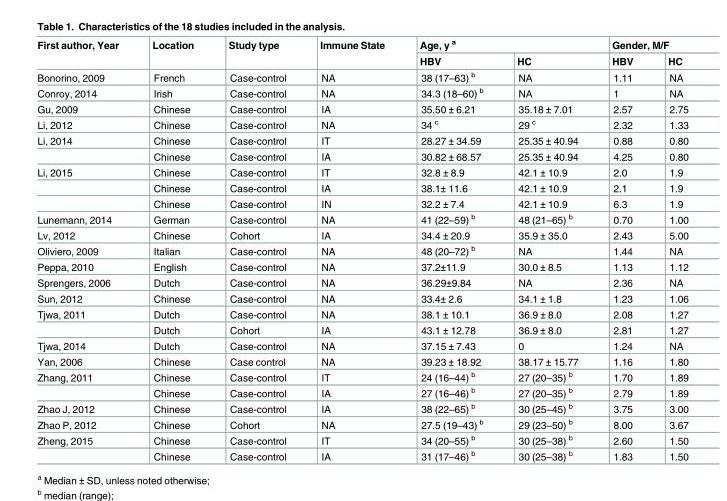table: (36, 36, 687, 461)
table column: (302, 36, 401, 461), (36, 36, 134, 461), (401, 36, 499, 461), (499, 36, 594, 461), (210, 36, 302, 461), (134, 36, 210, 461), (594, 36, 649, 461), (649, 36, 687, 461)
table column header: (36, 36, 687, 68)
table row: (36, 115, 687, 132), (36, 210, 687, 227), (36, 36, 687, 52), (36, 52, 687, 68), (36, 68, 687, 84), (36, 84, 687, 100), (36, 132, 687, 148), (36, 163, 687, 179), (36, 179, 687, 195), (36, 242, 687, 258), (36, 258, 687, 274), (36, 274, 687, 290), (36, 305, 687, 321), (36, 321, 687, 337), (36, 337, 687, 353), (36, 368, 687, 384), (36, 384, 687, 400), (36, 415, 687, 431), (36, 431, 687, 447), (36, 100, 687, 115), (36, 148, 687, 163), (36, 195, 687, 210), (36, 227, 687, 242), (36, 290, 687, 305), (36, 353, 687, 368), (36, 400, 687, 415), (36, 447, 687, 461)
table spanning cell: (36, 163, 134, 210), (302, 36, 401, 68), (36, 36, 134, 68), (36, 305, 134, 337), (36, 368, 134, 400), (401, 36, 594, 52), (36, 132, 134, 163), (210, 36, 302, 68), (36, 431, 134, 461), (134, 36, 210, 68), (594, 36, 687, 52)
